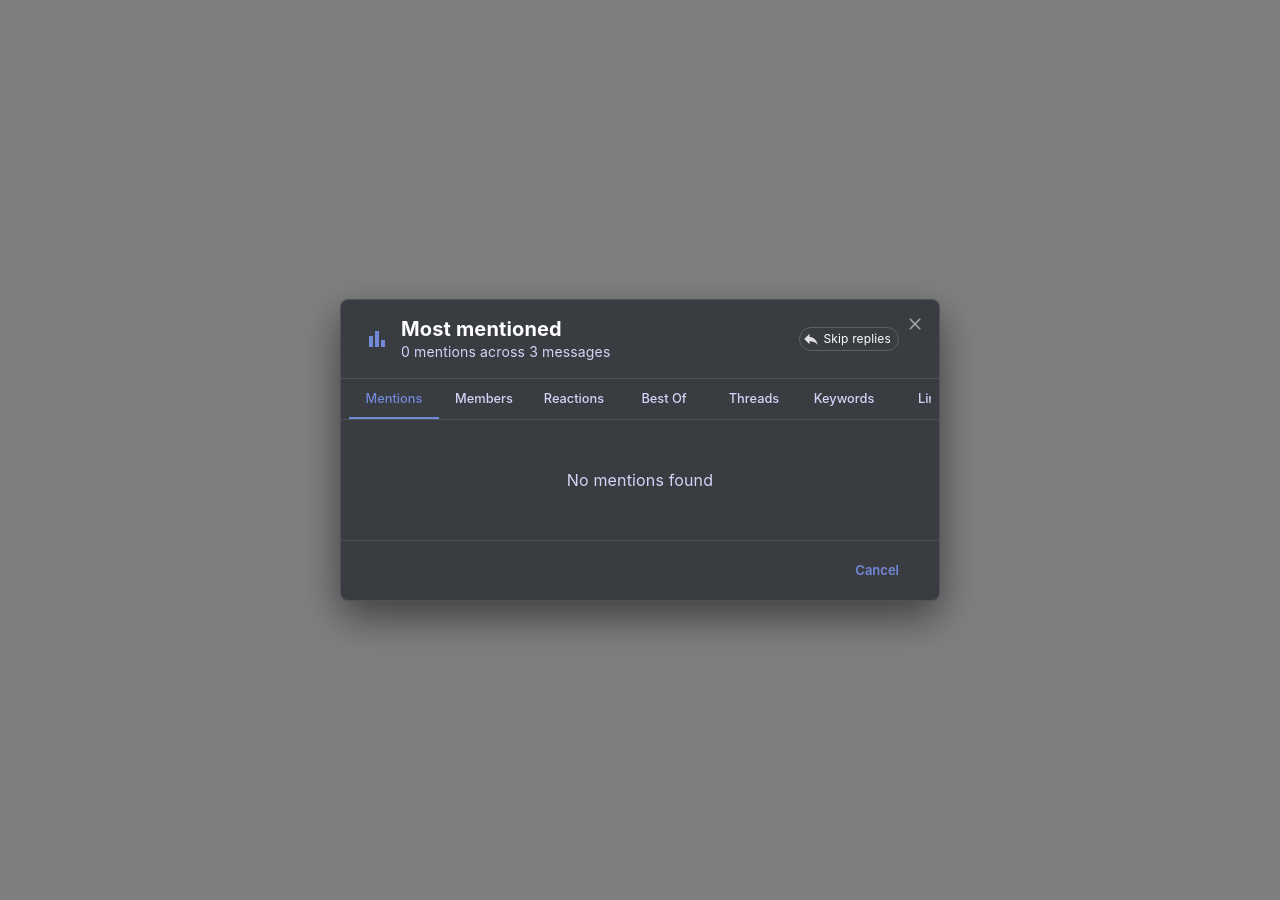
Test: AnalyticsModal › other reports › Keywords asks for terms, then counts them as typed
Click the tab "Keywords" at x=844, y=399, box [799,379,889,419]
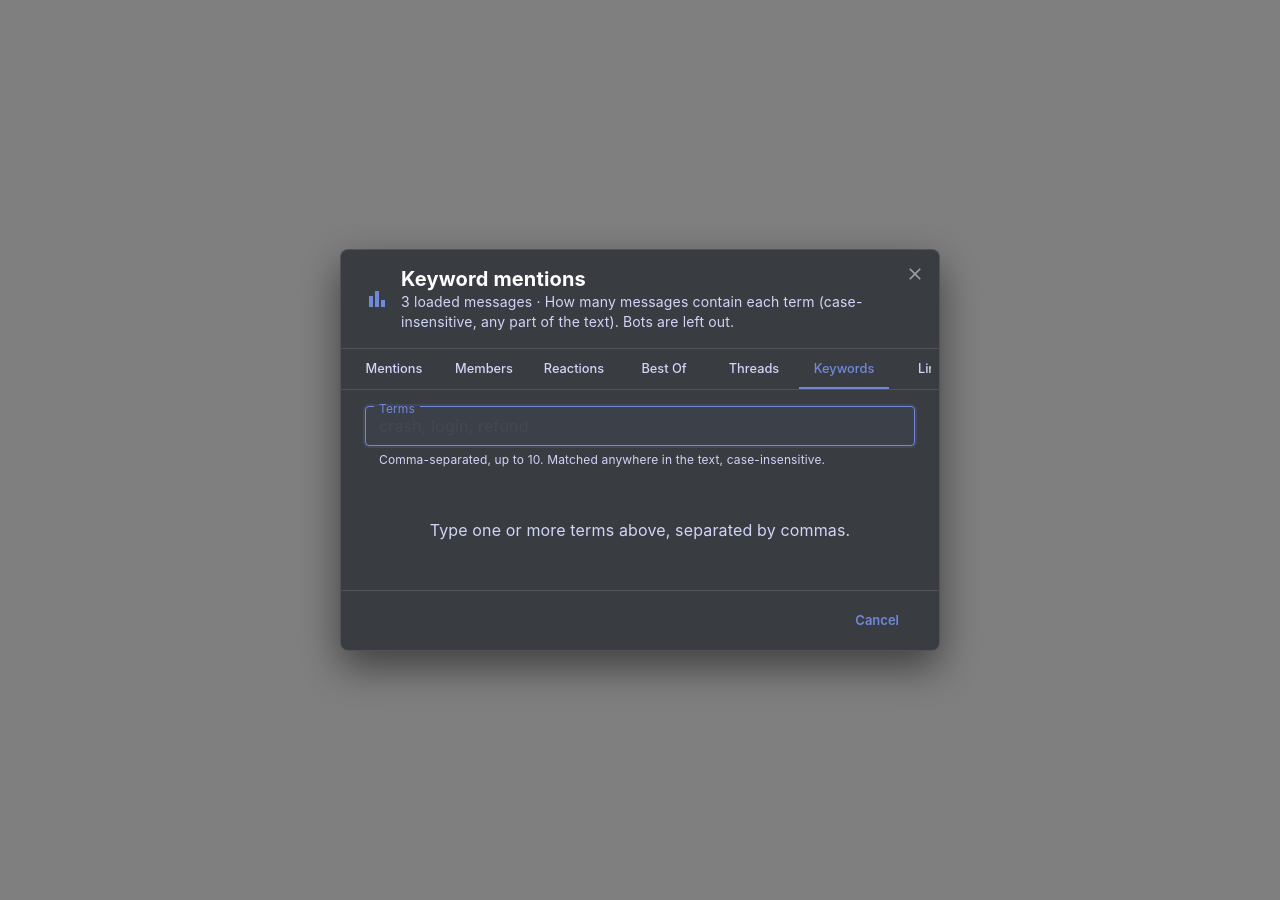
Expected: the text with test id "analytics-empty" shows "terms", [430,520,850,540]
Type "crash, login" into the field with test id "analytics-terms" at x=640, y=426, box [365,406,915,446]
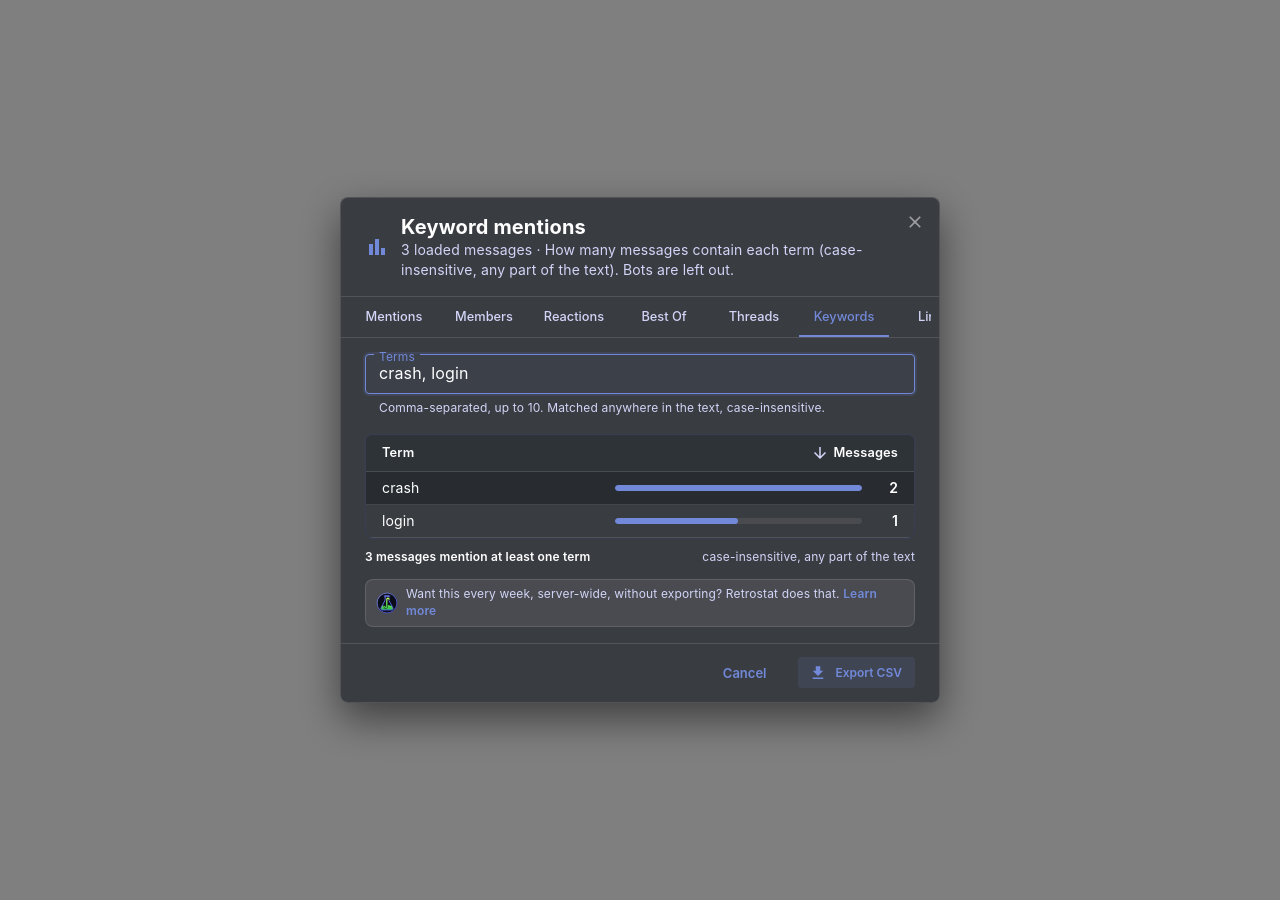
Expected: the row with test id "analytics-row" shows "crash", [382,479,420,496]
Expected: the row with test id "analytics-row" shows "2", [889,479,898,496]
Expected: the row with test id "analytics-row" shows "login", [382,512,415,529]
